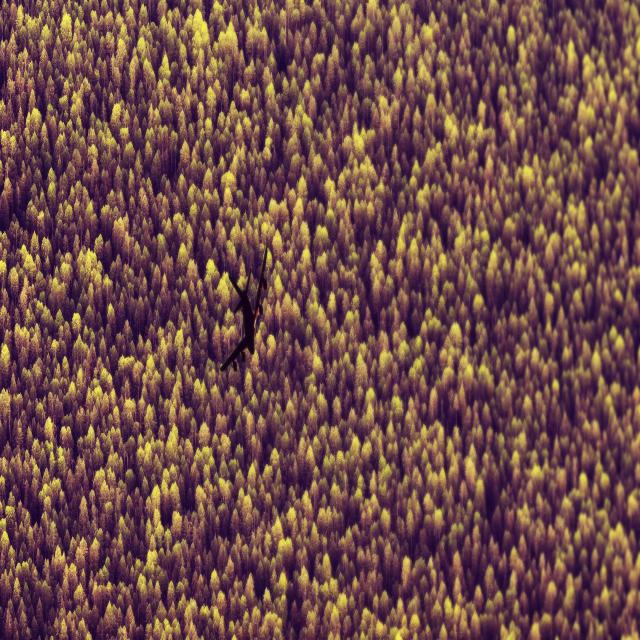airplane: (219, 244, 268, 372)
